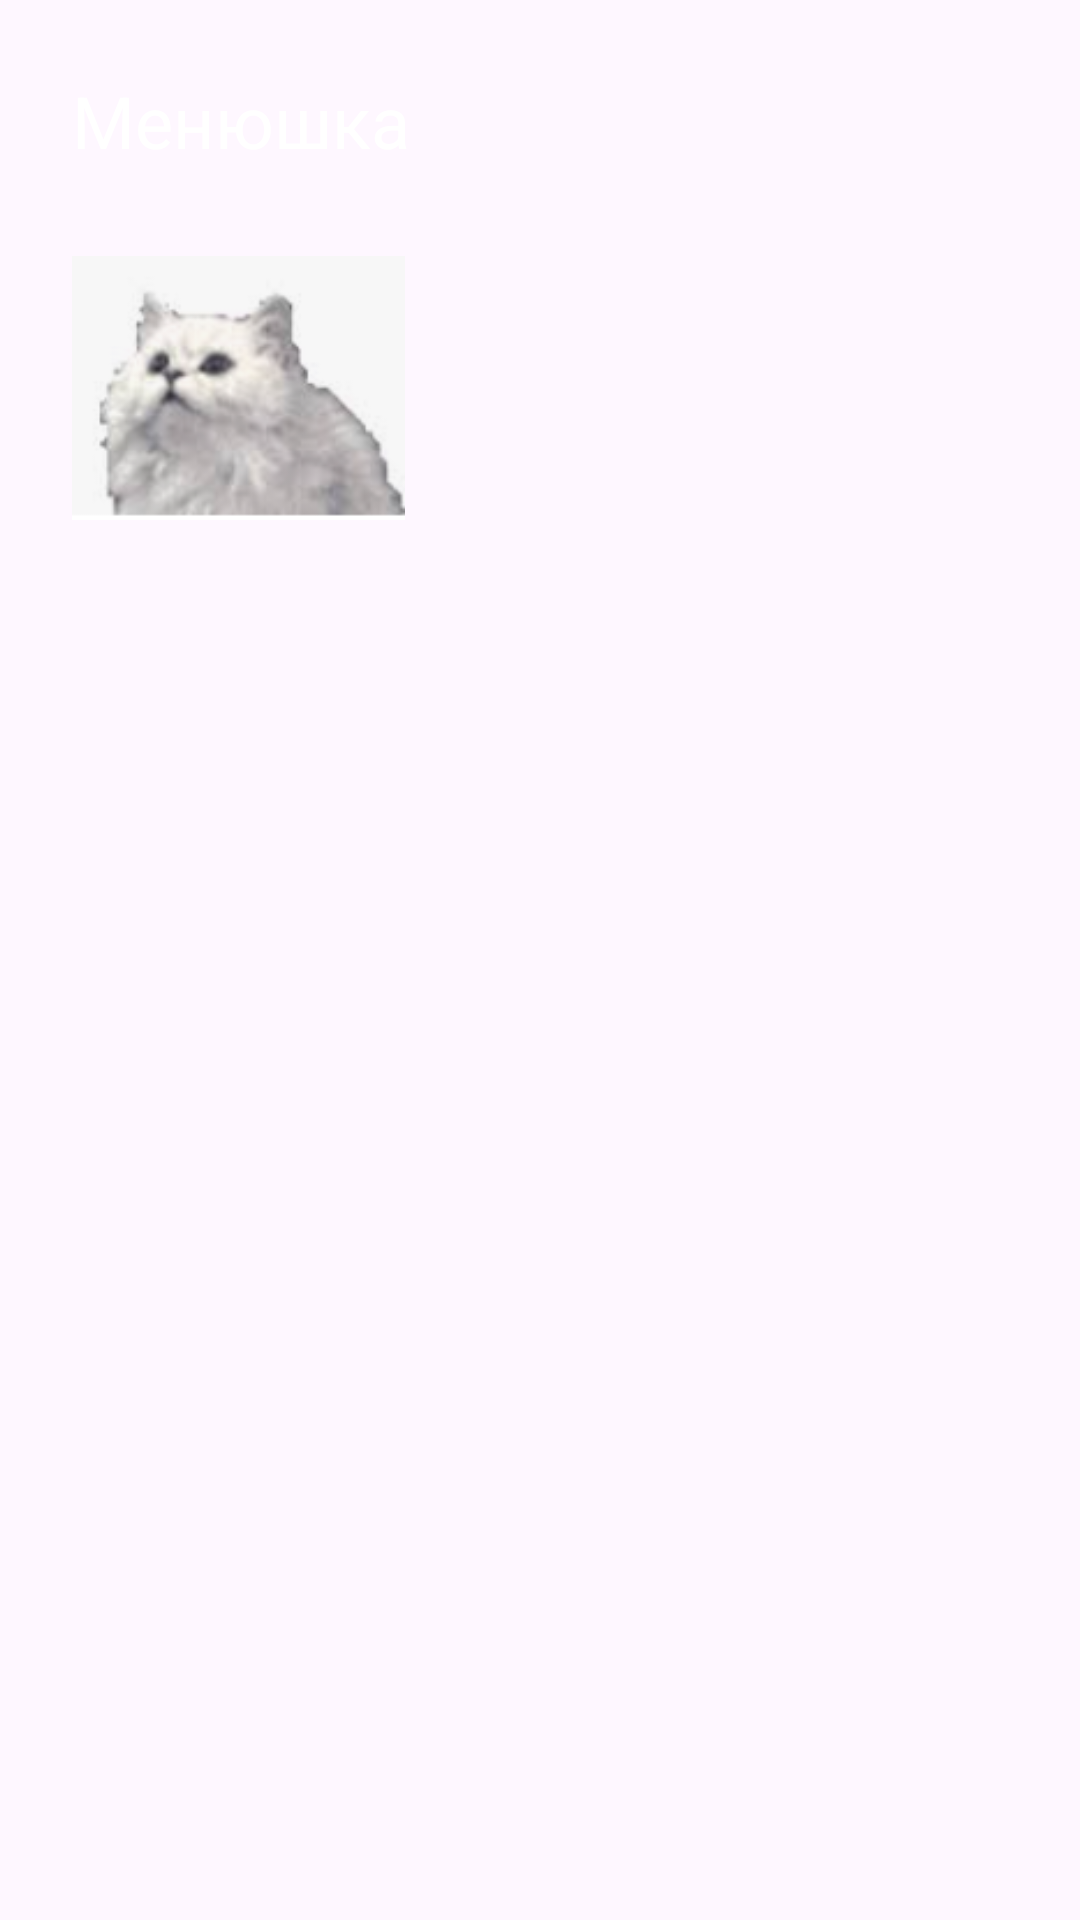

Locate icon controls on the screen. Image size 1080 × 1920, boxes as rect(x1, y1, x2, y2).
cat: rect(99, 292, 405, 516)
